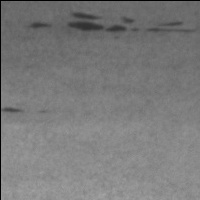inclusion: (64, 10, 200, 36), (26, 17, 54, 34), (1, 105, 34, 118)
